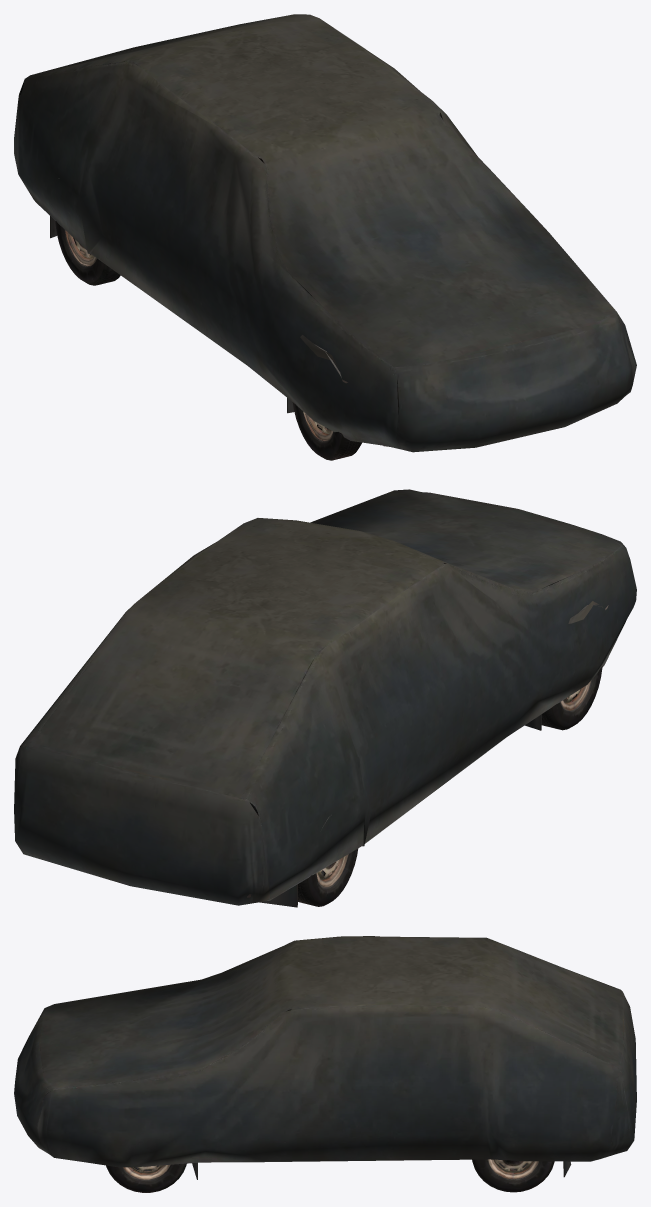
File: covered_car.lite.glb
3 views of the same model, one above another, from view 1: azimuth 30°, elevation 25°; view 2: azimuth 150°, elevation 25°; view 3: azimuth 270°, elevation 25° (orthographic). The views are drawn at different scales.
Parts seen in each view (by area): view 1: covered_car_wheel_01; view 2: covered_car_wheel_01; view 3: covered_car_wheel_01.
Part boxes in pixels (x1,y1,x2,y2): covered_car_wheel_01: [14, 14, 636, 460]; covered_car_wheel_01: [14, 489, 636, 907]; covered_car_wheel_01: [14, 936, 636, 1192].
Size of the model in its own units: 1.79 by 1.41 by 4.38.
1 material, 1 textured.
